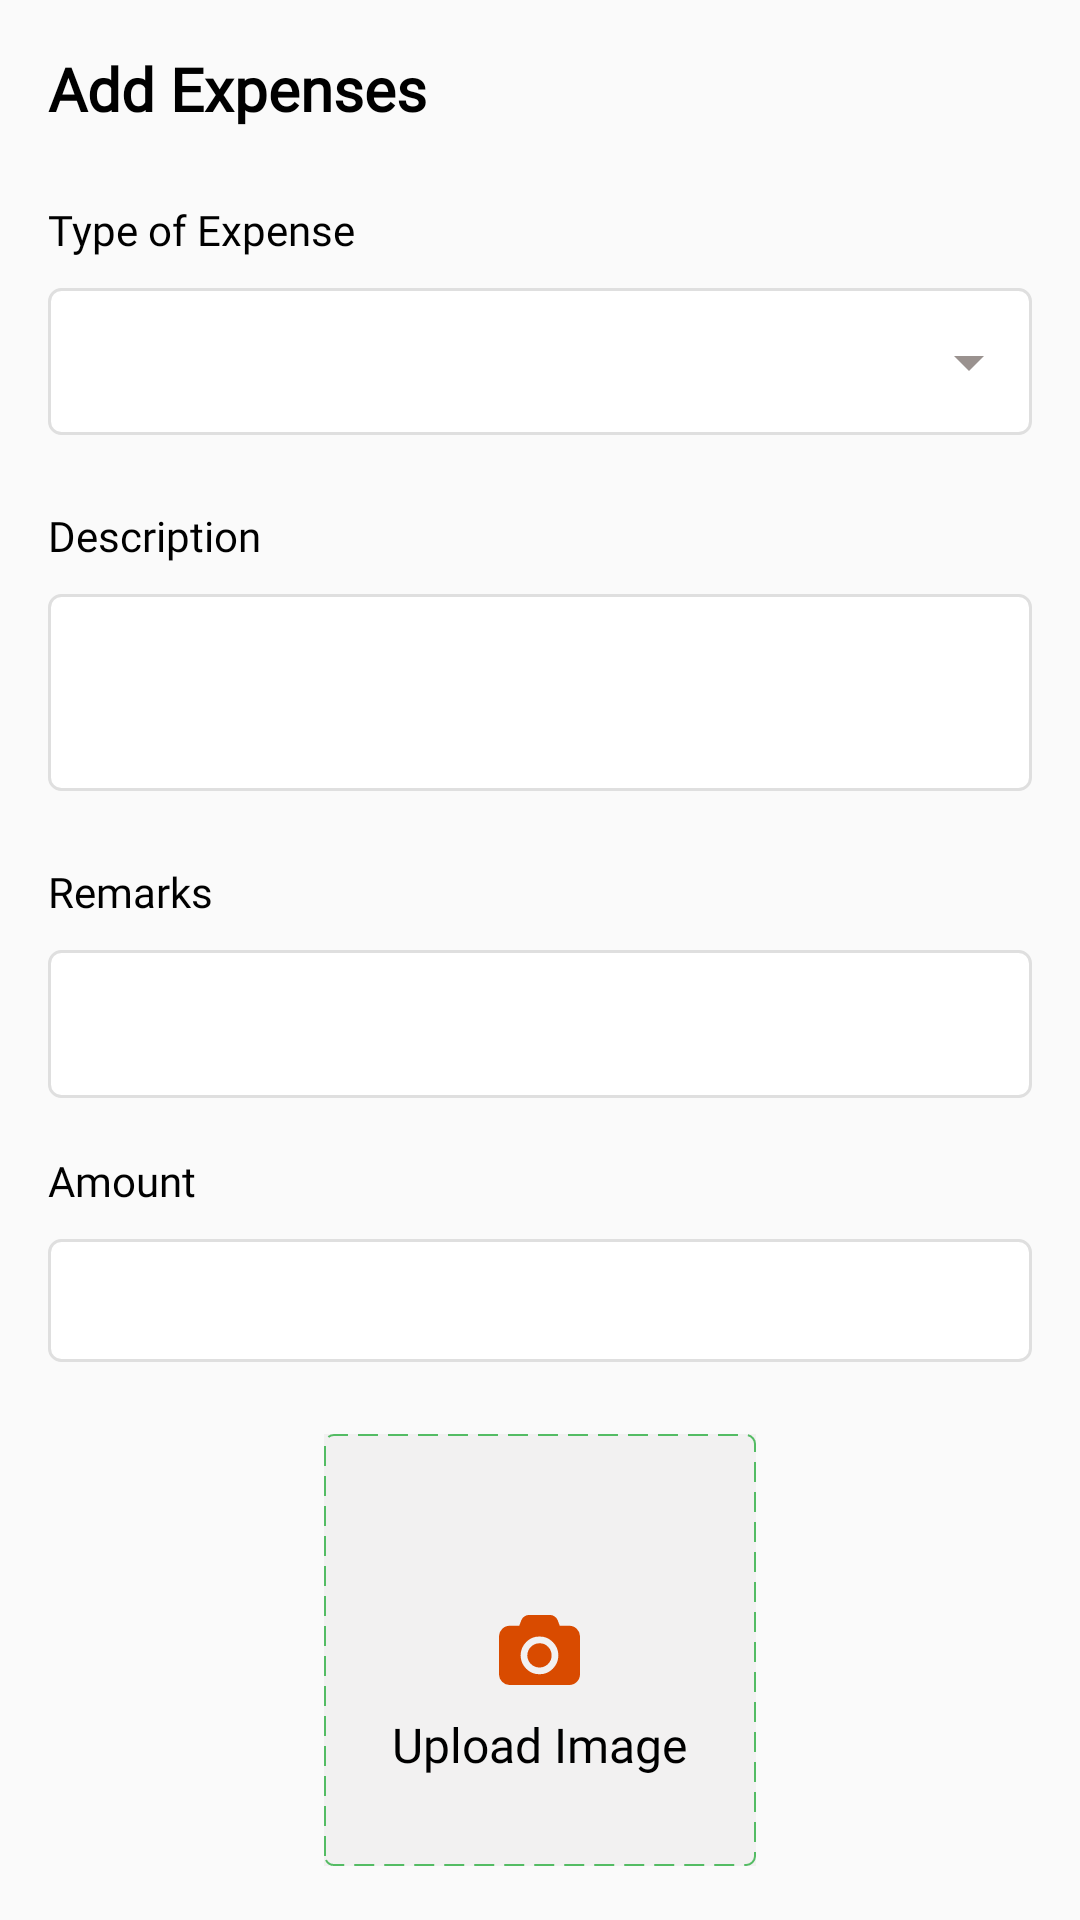

Point at icon controls on the screen. Image size 1080px x 1920px, points as (x,y).
camera: (539,1650)
